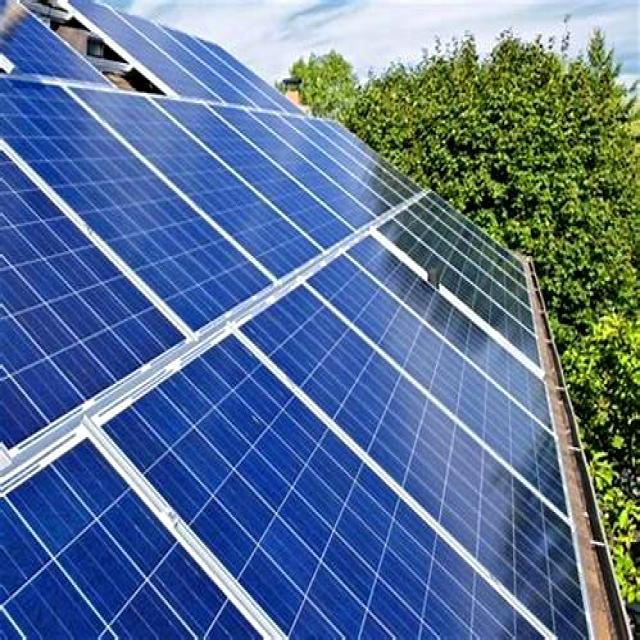crack: (295, 237, 553, 513), (49, 102, 406, 282), (117, 378, 305, 491)
